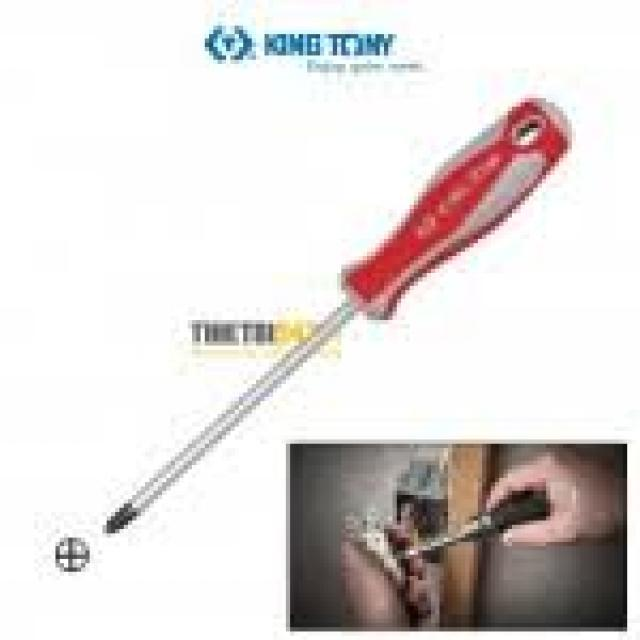screwdriver: (104, 96, 574, 536)
